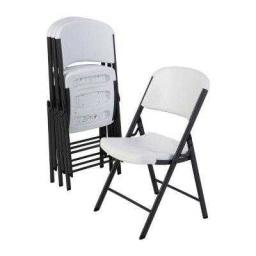Chair: (101, 67, 208, 235)
